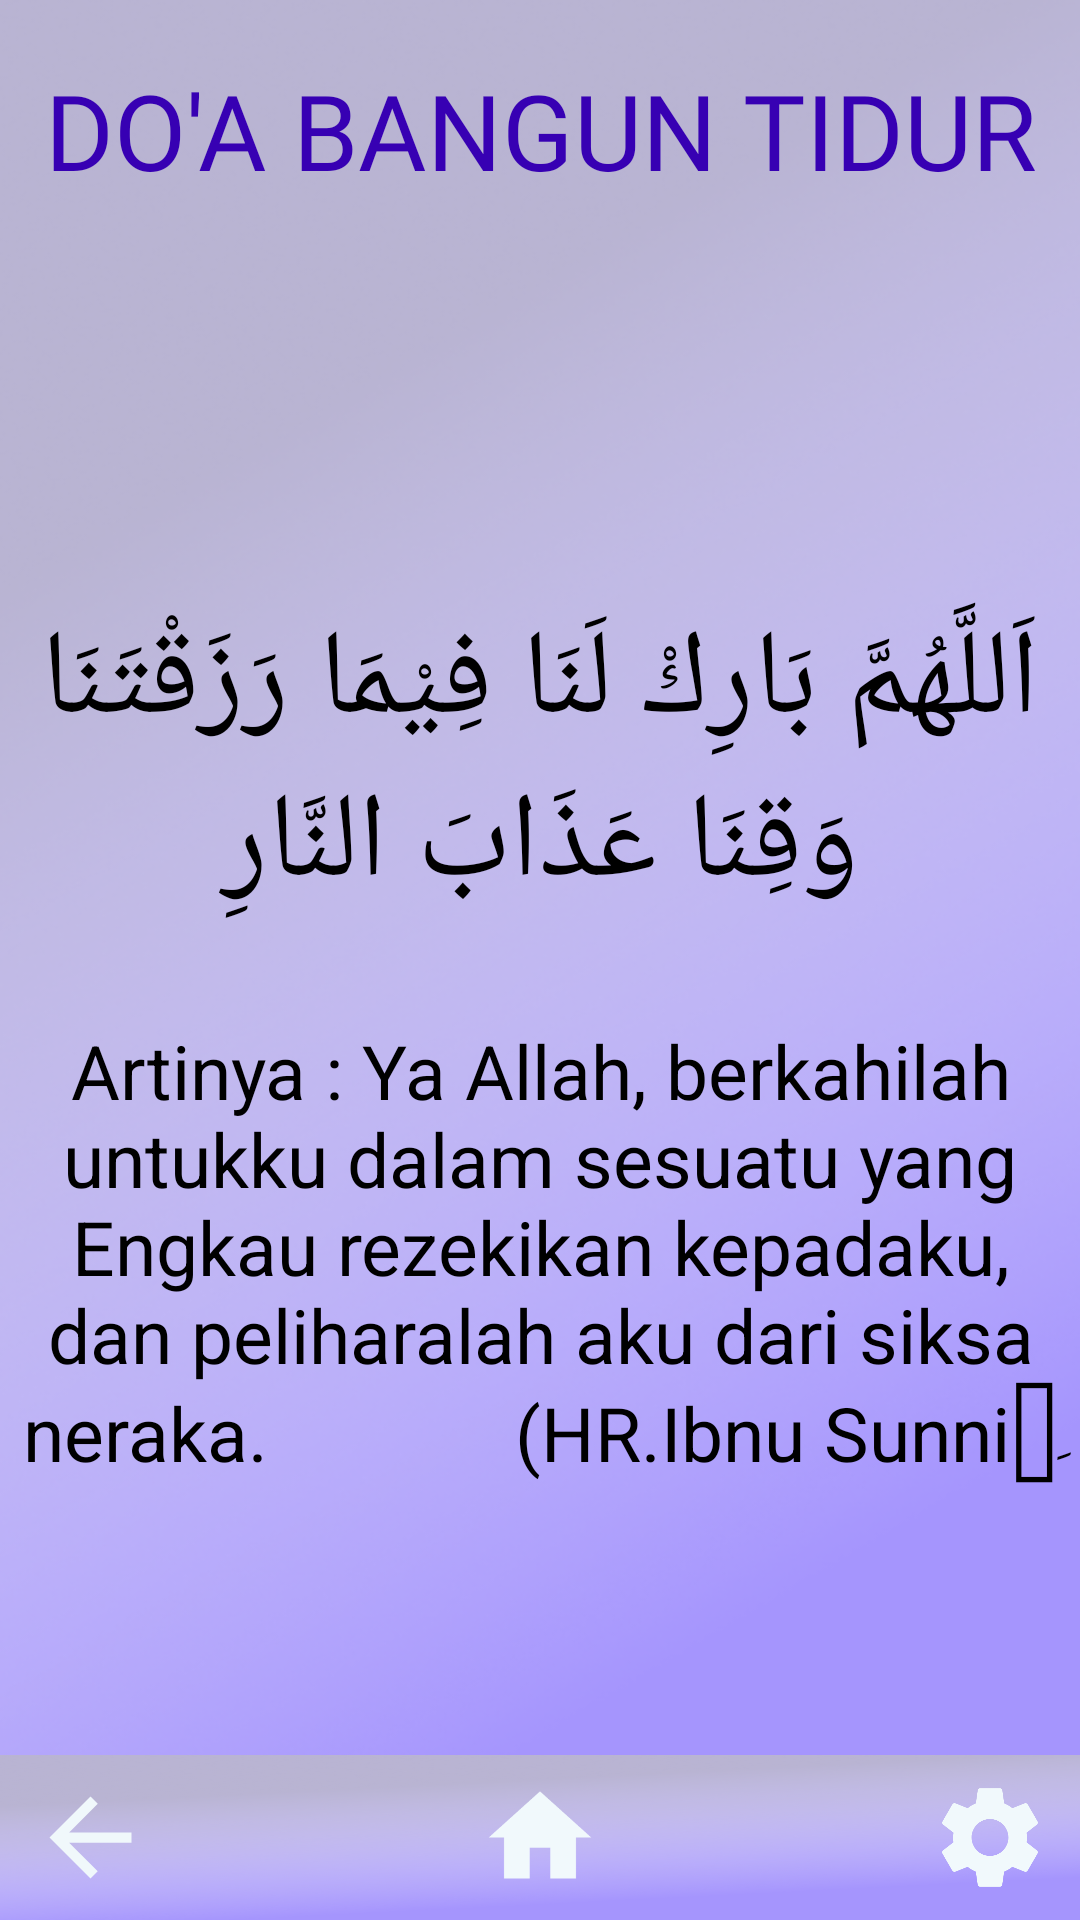

Named icons in this screenshot (1080×1920) and their centers, point (x, y):
arrow back: point (90, 1837)
home: point (540, 1837)
settings: point (990, 1837)
